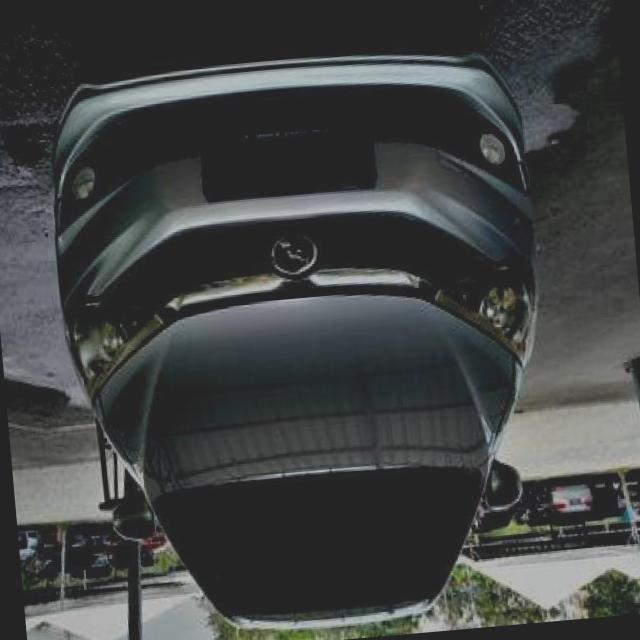PeroduaBezza: (38, 35, 570, 640)
